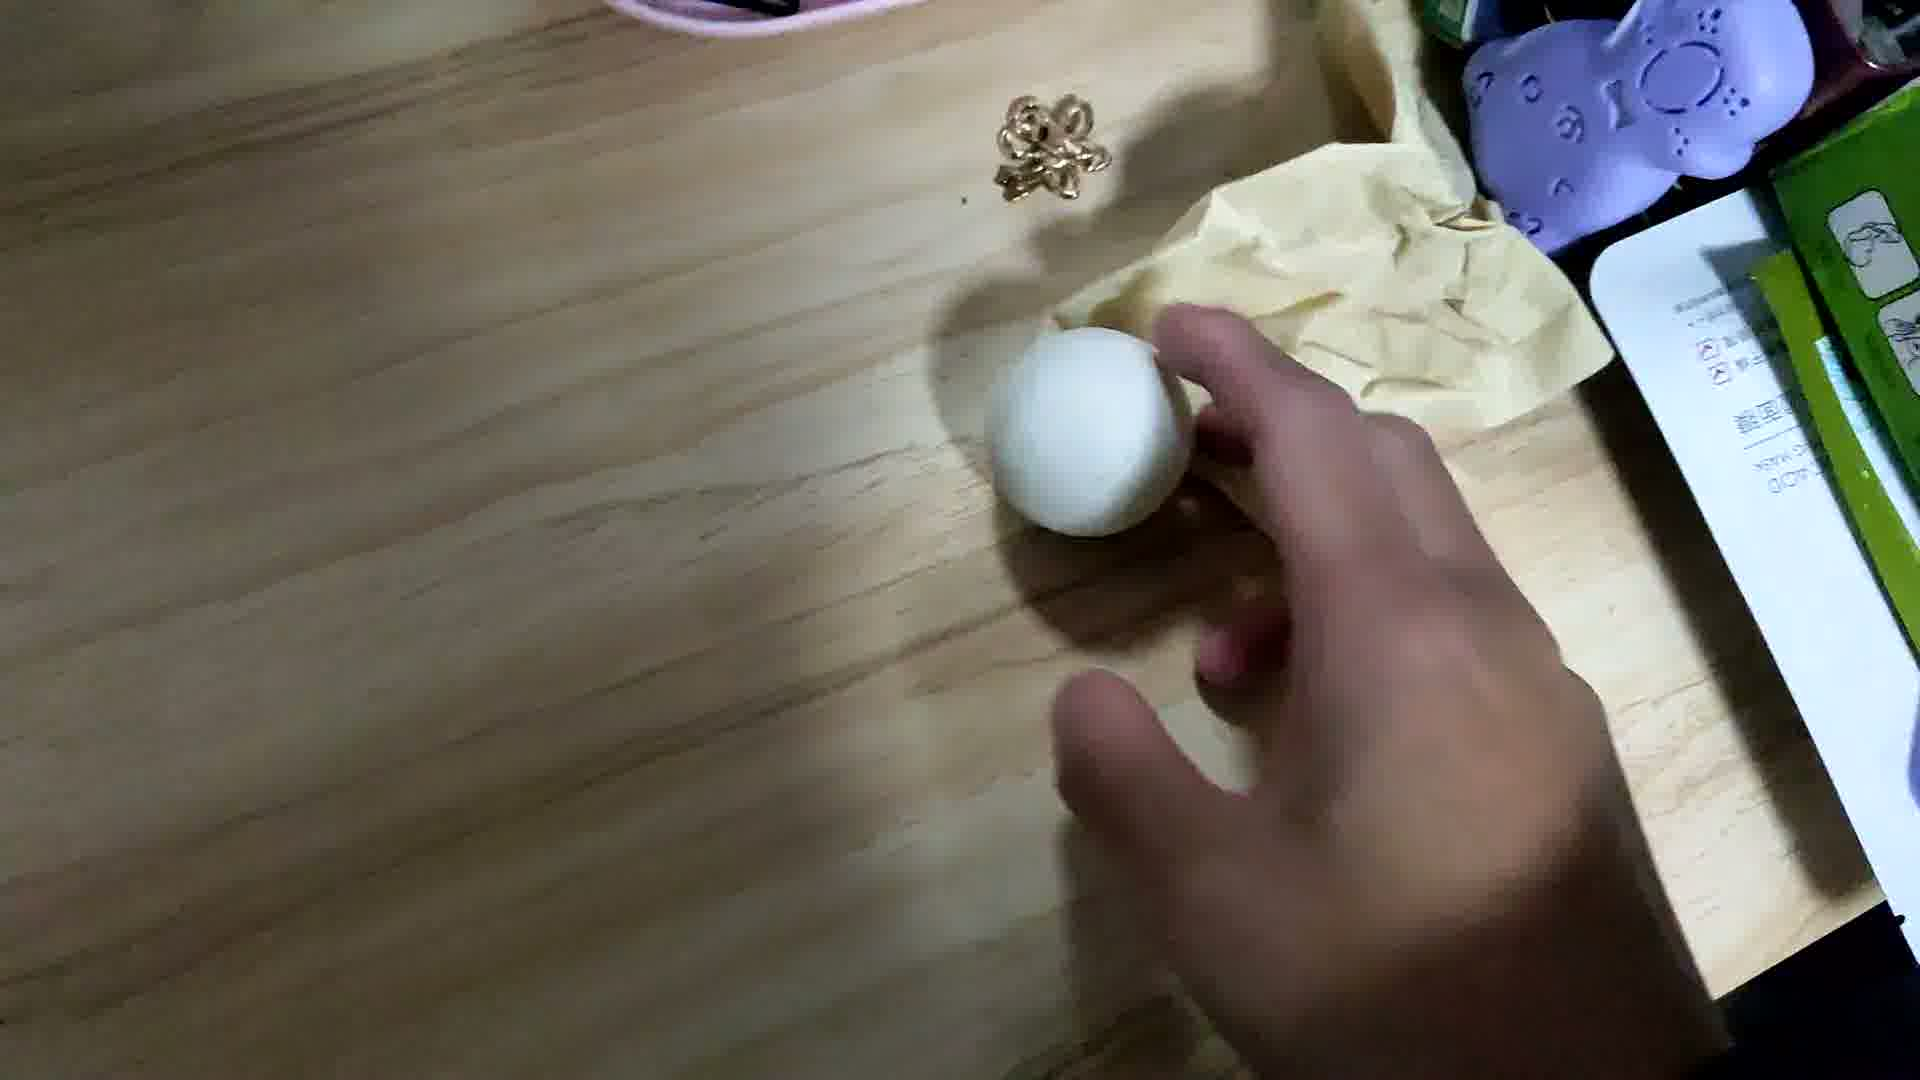Ball: (988, 327, 1193, 542)
